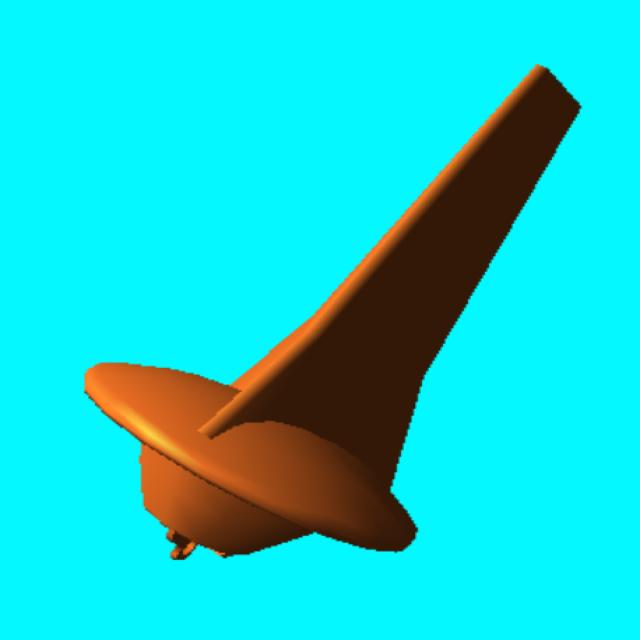OrangeBuoy: (87, 66, 579, 558)
